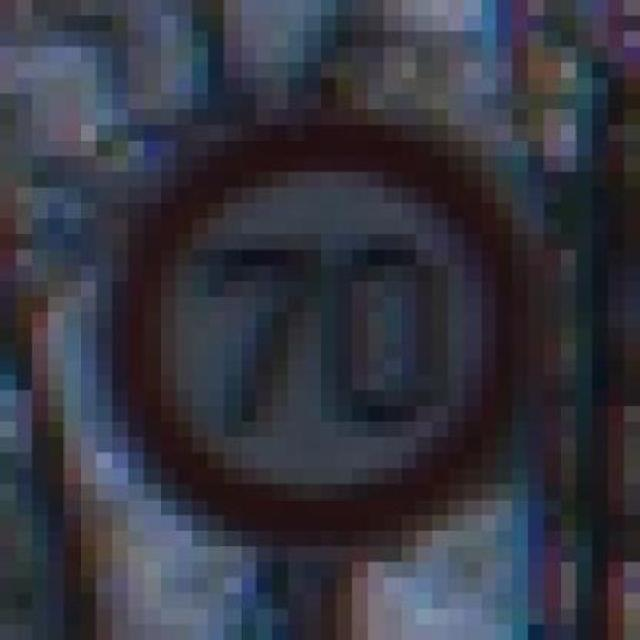forb_speed_over_70: (125, 125, 522, 522)
